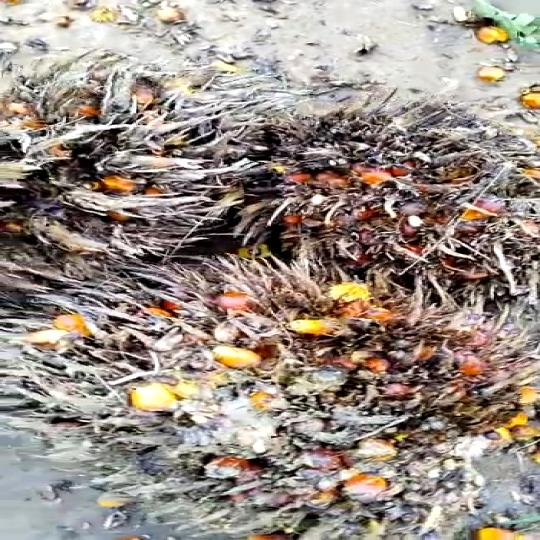terlalu masak: (0, 267, 534, 488), (213, 102, 524, 268)
